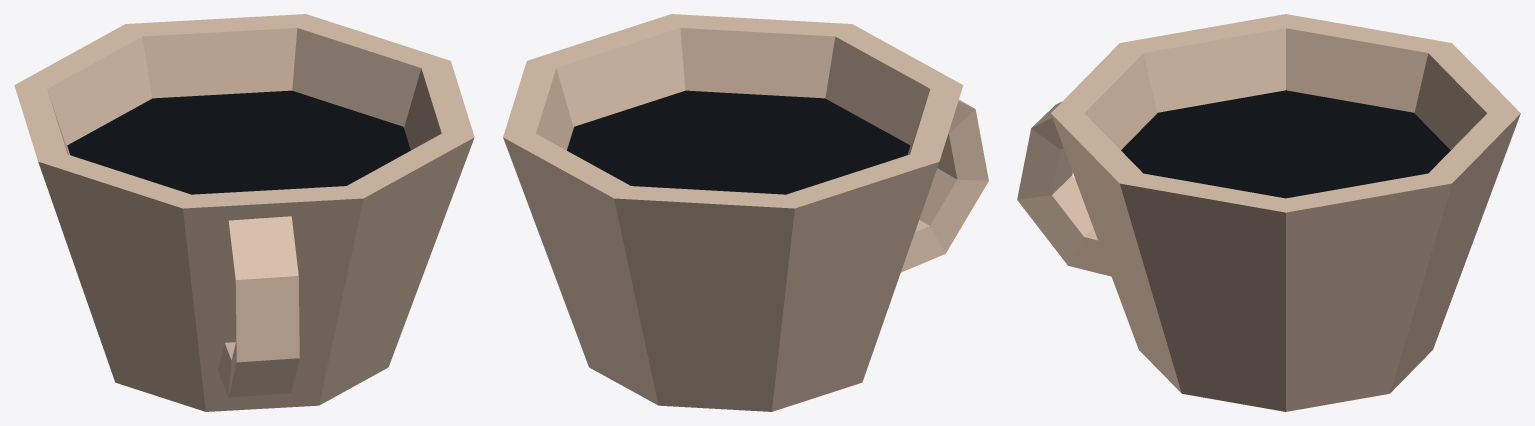
Rendered from coffee_cup.fbx.
The picture shows the model from 3 angles, left to right: view 1: azimuth 30°, elevation 25°; view 2: azimuth 150°, elevation 25°; view 3: azimuth 270°, elevation 25°; orthographic projection.
Parts seen in each view (by area): view 1: coffee_cup, coffee_cup_liquid; view 2: coffee_cup, coffee_cup_liquid; view 3: coffee_cup, coffee_cup_liquid.
Boxes of the visible parts, x1=… form: coffee_cup: x1=14, y1=14, x2=474, y2=411; coffee_cup_liquid: x1=67, y1=90, x2=410, y2=194; coffee_cup: x1=503, y1=14, x2=988, y2=411; coffee_cup_liquid: x1=567, y1=90, x2=910, y2=194; coffee_cup: x1=1017, y1=14, x2=1520, y2=411; coffee_cup_liquid: x1=1121, y1=90, x2=1450, y2=198.
Size of the model in its own units: 15.83 by 8.79 by 16.97.
1 material, 1 textured.
